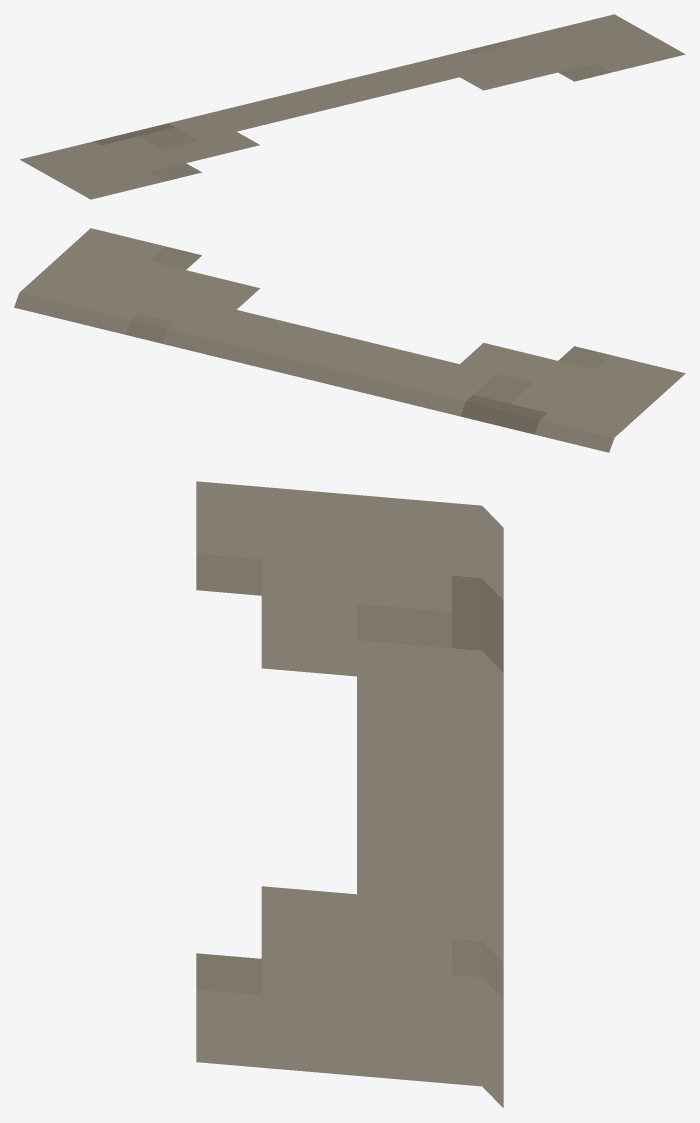
3 renders of one model, top to bottom at view 1: azimuth 30°, elevation 25°; view 2: azimuth 150°, elevation 25°; view 3: azimuth 270°, elevation 25°, orthographic. The views are drawn at different scales.
Size of the model in its own units: 1 by 0.0373 by 0.2236.
1 material, 1 textured.
